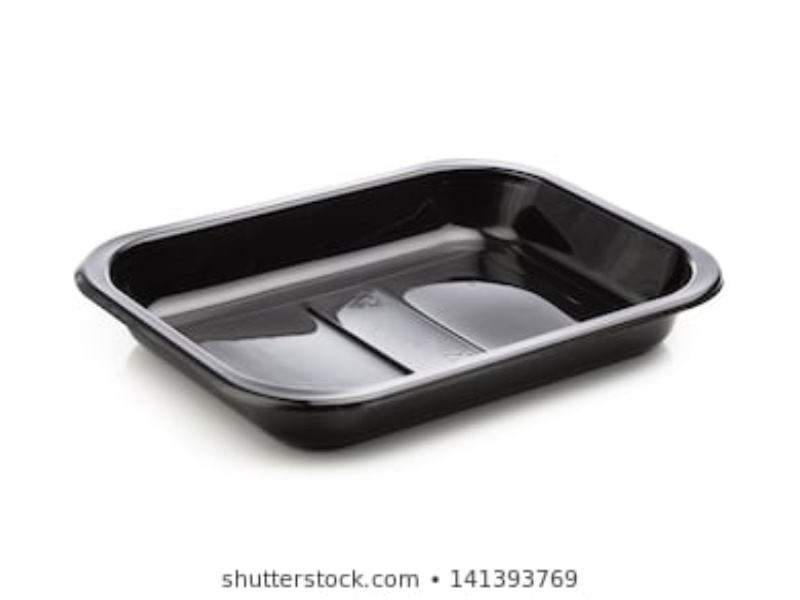plastic-tray: (70, 159, 729, 459)
